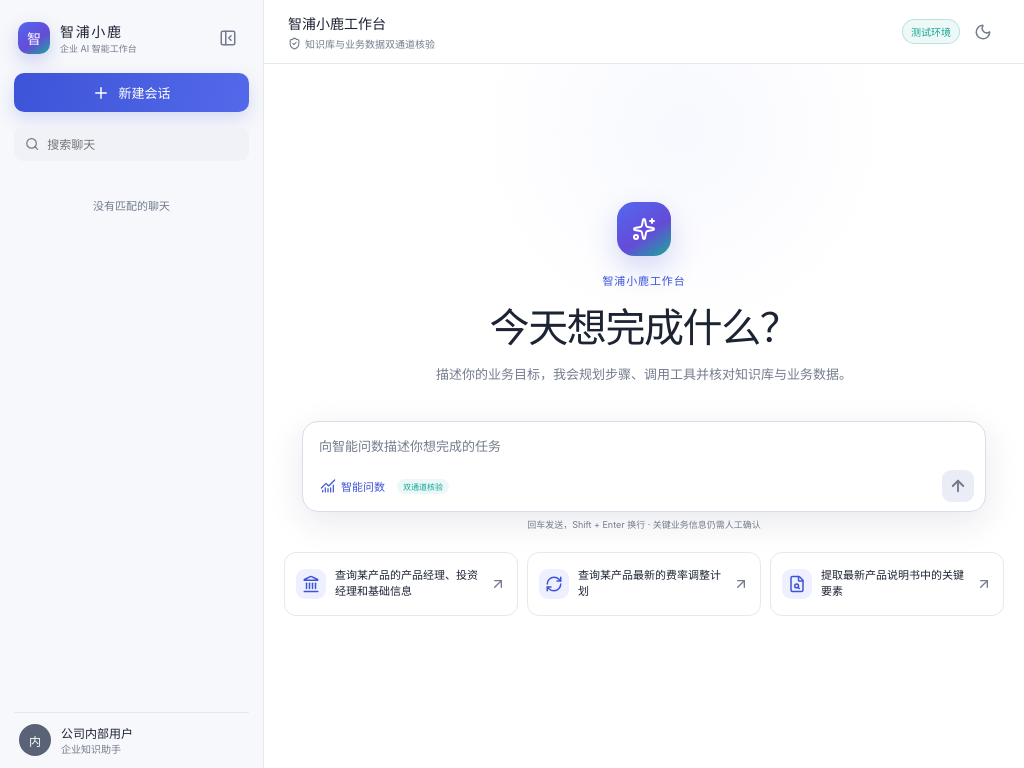
Test case: App › 服务端停止失败后进入停止失败终态
Expected: the heading "今天想完成什么？" is shown, [490,296,798,354]
Type "停止失败测试" into the text box named "输入问题". click: (644, 450)
box: [314,431,974,469]
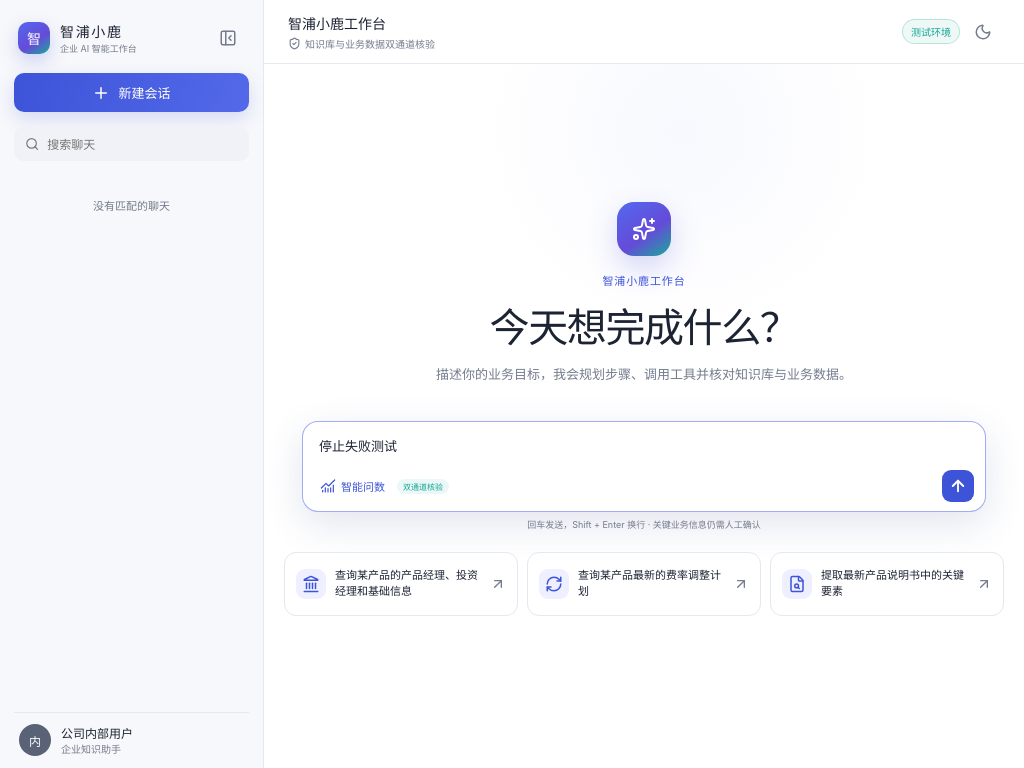
Click the button named "发送问题". click: (958, 486)
box: [942,470,974,502]
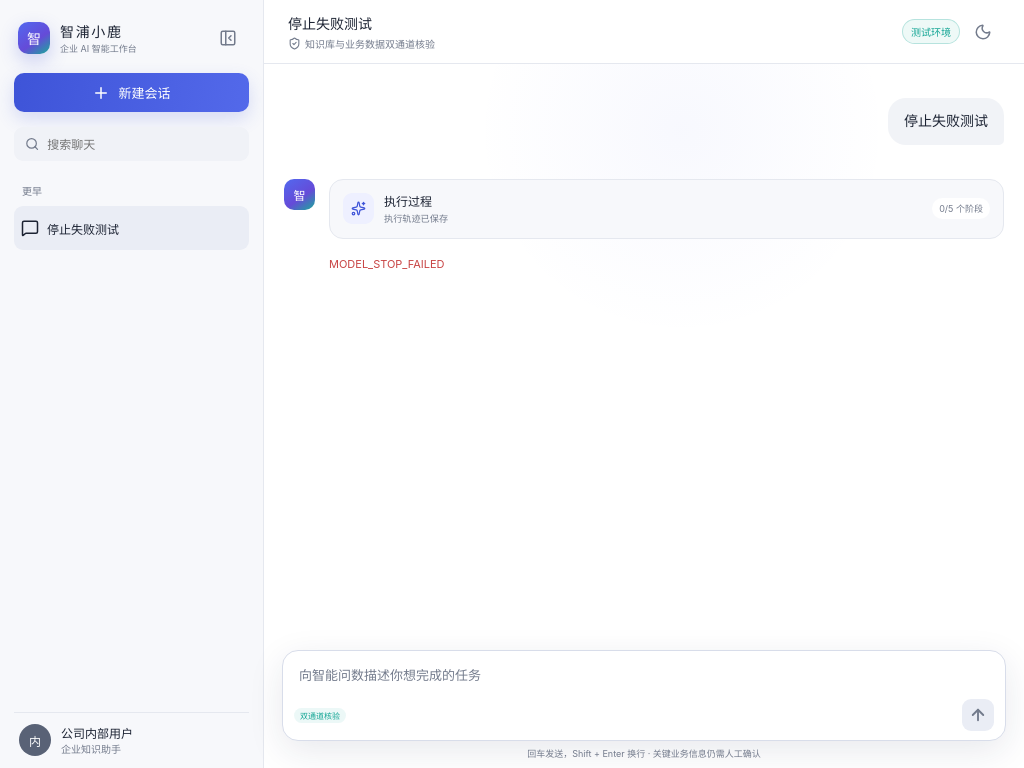
Expected: the text "MODEL_STOP_FAILED" is shown, [329,256,444,270]
